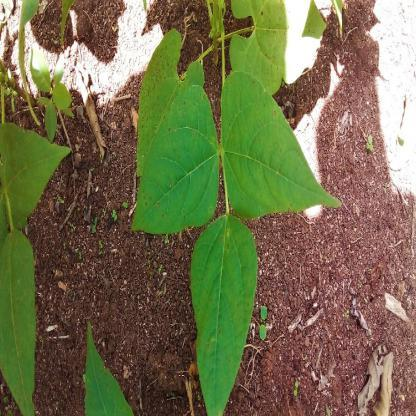Beans_Angular_LeafSpot: (190, 221, 258, 398), (141, 96, 214, 236), (234, 74, 308, 210)
